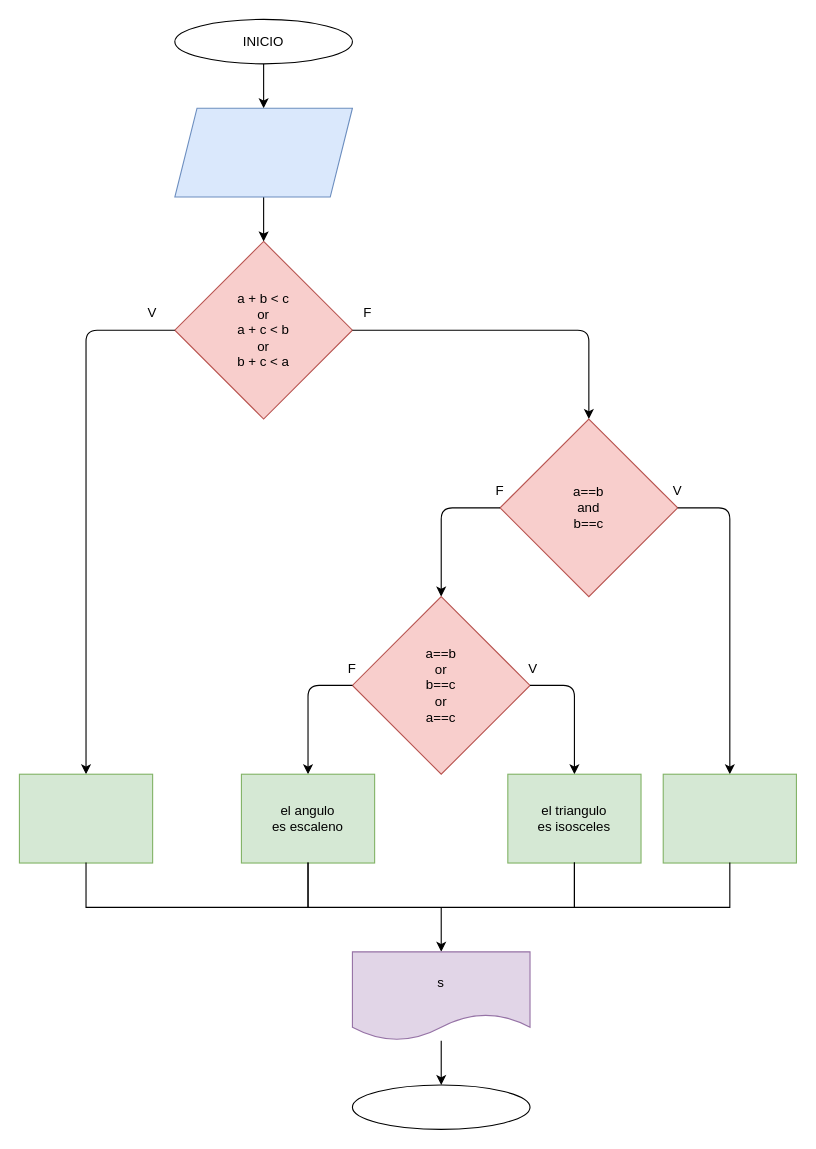
This 816x1149 diagram has some shape labels left out. The shapes that lost their labels are listed below. From the top down, each one's centre as x and y in pixels, then its label:
the point at 263,152: a ,b , c
the point at 85,818: error
the point at 729,818: el triangulo es equilatero
the point at 440,1106: FIN
